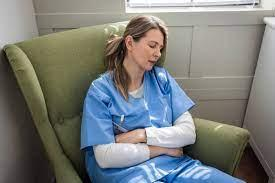sleep: (96, 14, 197, 113)
